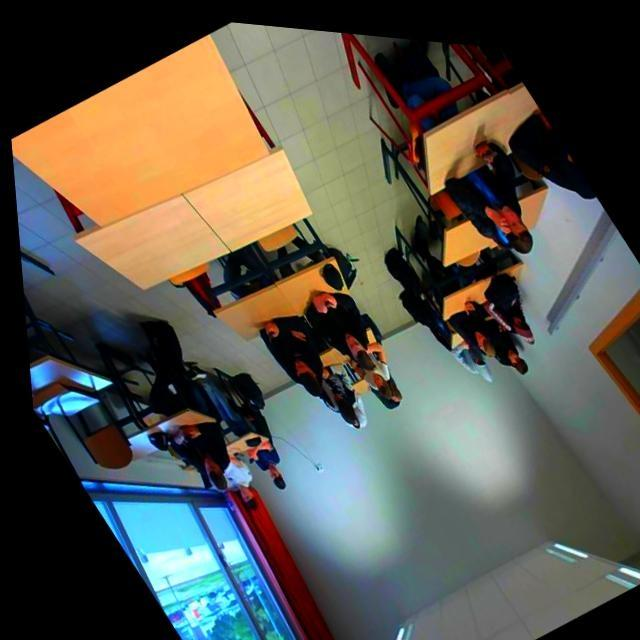phone_use: (427, 139, 545, 264), (147, 409, 228, 488), (260, 315, 327, 400), (304, 291, 372, 368), (469, 302, 526, 372), (224, 431, 284, 488), (321, 367, 365, 427), (442, 276, 490, 319)
